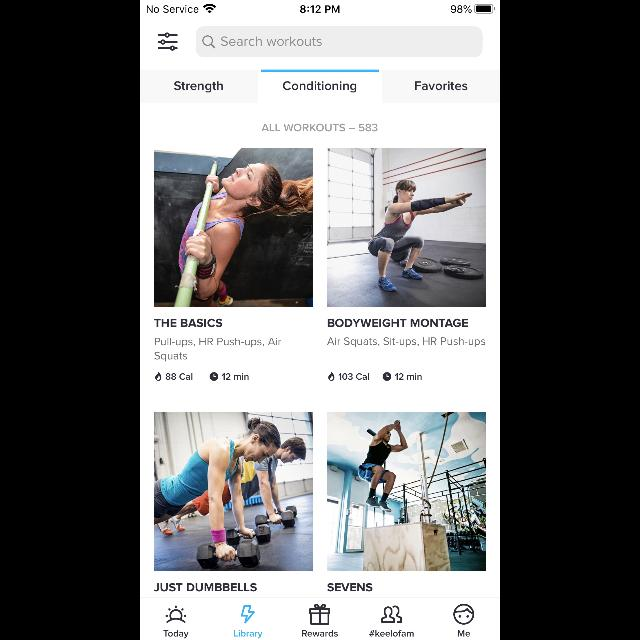icon: (454, 604, 474, 624), (310, 604, 330, 624), (158, 33, 178, 51), (382, 606, 402, 622), (202, 36, 215, 49), (383, 373, 391, 381), (210, 373, 218, 381), (328, 372, 334, 381), (156, 372, 162, 381)
image: (154, 148, 314, 308), (154, 412, 314, 572), (328, 148, 487, 308), (328, 412, 487, 572), (166, 606, 186, 622), (242, 605, 254, 623)
input: (196, 27, 482, 58)
text: (327, 337, 485, 347), (155, 338, 281, 348), (328, 319, 468, 327), (262, 124, 378, 132), (155, 583, 257, 591), (222, 38, 322, 46), (284, 81, 356, 92), (155, 319, 223, 327), (175, 81, 223, 92), (415, 82, 467, 90), (328, 583, 372, 591), (154, 352, 188, 362), (369, 630, 413, 636), (235, 630, 263, 638), (338, 374, 369, 381), (302, 630, 338, 636), (164, 630, 188, 638), (166, 374, 192, 380), (223, 374, 249, 380), (395, 374, 421, 380), (458, 630, 470, 636)
uppertaskbar: (140, 0, 500, 14)
